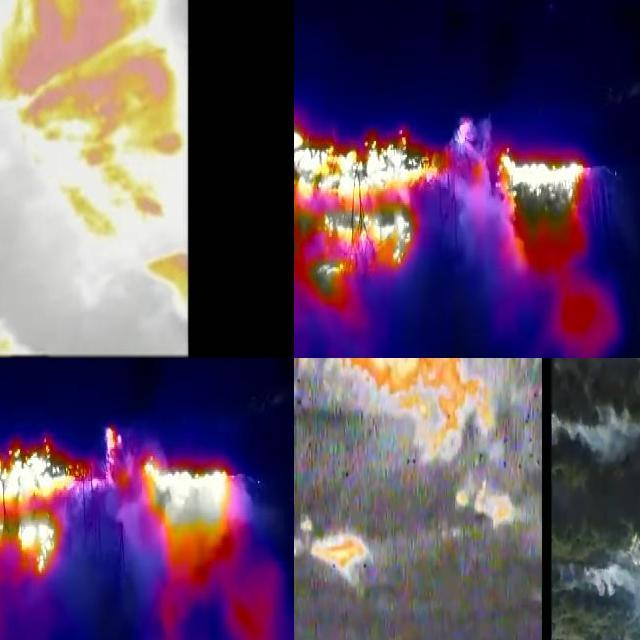fire: (1, 1, 189, 317), (295, 118, 449, 308), (295, 359, 497, 461), (1, 425, 133, 581), (455, 120, 589, 268), (138, 450, 234, 564), (457, 485, 517, 531), (310, 531, 370, 575)
